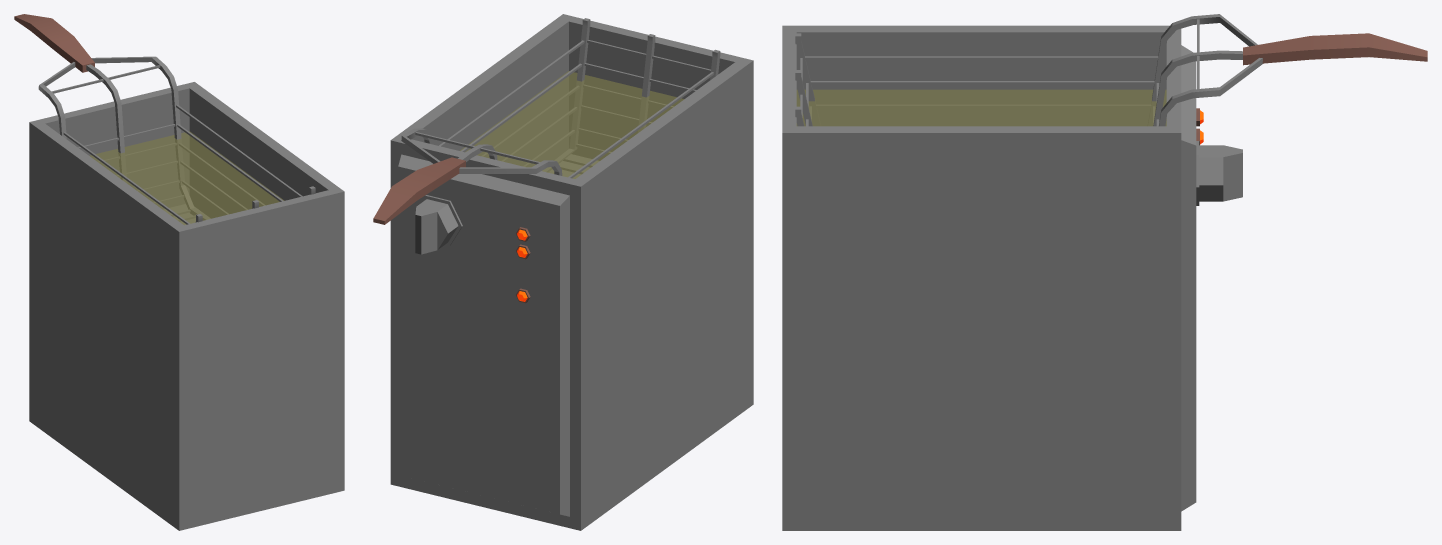
File: Fryer.fbx
The picture shows the model from 3 angles, left to right: view 1: azimuth 30°, elevation 25°; view 2: azimuth 150°, elevation 25°; view 3: azimuth 270°, elevation 25°; orthographic projection. The views are drawn at different scales.
Parts seen in each view (by area): view 1: Fryer, Oil1, Basket; view 2: Fryer, Oil1, Basket, Knob; view 3: Fryer, Oil1, Basket, Knob.
Boxes of the visible parts, x1,y1,x2,y2 form: Fryer: [29, 82, 344, 530]; Oil1: [89, 131, 284, 225]; Basket: [14, 14, 315, 224]; Fryer: [390, 14, 753, 530]; Oil1: [460, 71, 684, 178]; Basket: [373, 18, 720, 224]; Knob: [405, 195, 462, 254]; Fryer: [782, 25, 1203, 530]; Oil1: [796, 89, 1166, 126]; Basket: [795, 14, 1427, 126]; Knob: [1196, 141, 1242, 205].
Bounding box in the file's own units: 38.43 × 72.89 × 97.62.
